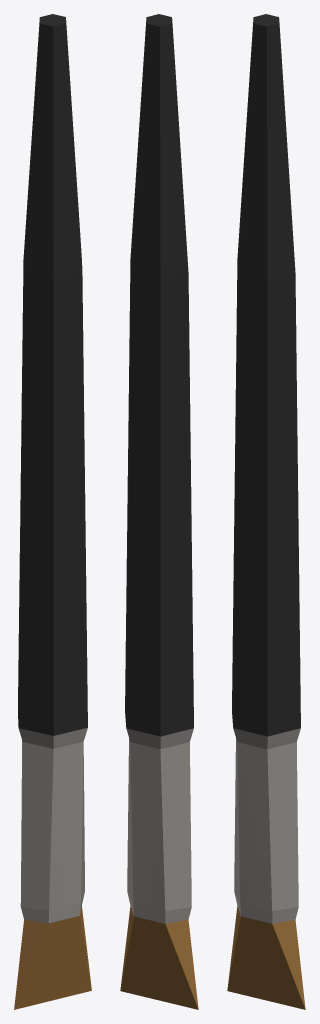
The model's file is tools_paintbrush-flat.fbx.
3 renders of one model, left to right at view 1: azimuth 30°, elevation 25°; view 2: azimuth 150°, elevation 25°; view 3: azimuth 330°, elevation 25°, orthographic.
Parts seen in each view (by area): view 1: tools_paintbrush_flat; view 2: tools_paintbrush_flat; view 3: tools_paintbrush_flat.
Part boxes in pixels (x1=…): tools_paintbrush_flat: x1=14, y1=14, x2=91, y2=1009; tools_paintbrush_flat: x1=120, y1=14, x2=198, y2=1009; tools_paintbrush_flat: x1=227, y1=14, x2=305, y2=1009.
Bounding box in the file's own units: 16.68 × 200 × 12.55.
